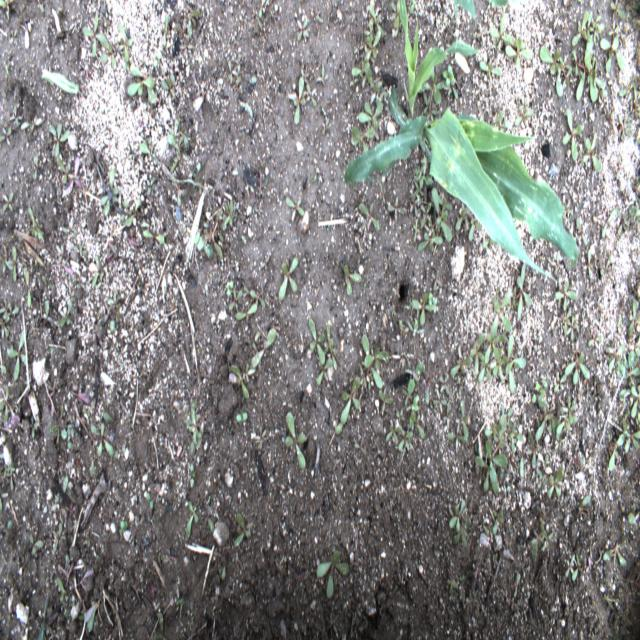crop: (344, 83, 577, 282), (399, 0, 478, 116)
weed: (473, 414, 507, 496), (193, 200, 234, 260), (83, 10, 117, 72), (569, 9, 605, 59), (416, 62, 445, 124), (538, 47, 573, 98), (572, 50, 606, 102), (315, 550, 351, 598), (333, 376, 361, 435), (361, 333, 390, 389), (599, 18, 627, 76), (424, 187, 452, 241), (561, 107, 586, 165), (249, 326, 277, 377), (125, 61, 156, 106), (284, 412, 308, 470), (182, 397, 204, 459), (505, 333, 527, 394), (8, 326, 30, 384), (488, 288, 512, 341), (48, 402, 76, 447), (167, 116, 188, 174), (227, 361, 258, 399), (449, 498, 472, 548), (564, 344, 592, 385), (100, 165, 122, 217), (512, 265, 532, 320), (505, 35, 533, 73), (488, 13, 512, 55), (90, 419, 115, 458), (60, 156, 84, 196), (306, 318, 326, 366), (615, 416, 639, 455), (314, 342, 334, 388), (278, 255, 298, 301), (410, 292, 437, 326), (534, 398, 554, 443), (582, 131, 602, 174), (358, 96, 384, 129), (49, 120, 71, 158), (322, 323, 339, 372), (601, 542, 627, 573), (350, 127, 374, 160), (358, 198, 381, 232), (620, 349, 638, 392), (446, 419, 468, 454), (0, 382, 16, 427), (546, 462, 564, 502), (469, 331, 484, 378), (484, 329, 504, 364), (351, 58, 374, 88), (554, 280, 577, 310), (234, 512, 253, 548), (292, 77, 306, 125), (477, 348, 496, 383), (343, 262, 362, 296), (413, 156, 433, 188), (185, 498, 200, 540), (117, 23, 133, 62), (4, 244, 20, 283), (124, 196, 141, 232), (53, 301, 74, 329), (27, 205, 43, 241), (363, 30, 381, 62), (607, 340, 625, 372), (19, 113, 45, 135), (23, 266, 36, 310), (369, 2, 384, 39), (492, 346, 507, 383), (417, 233, 443, 254), (387, 194, 404, 226), (455, 201, 472, 233), (284, 195, 304, 222), (479, 58, 501, 82), (449, 358, 473, 380), (56, 157, 74, 186), (514, 102, 534, 128), (405, 393, 419, 428), (52, 521, 67, 553), (397, 426, 414, 454), (561, 392, 575, 426), (411, 411, 426, 442), (383, 421, 403, 444), (234, 302, 259, 320), (91, 256, 105, 288), (160, 74, 177, 100), (402, 376, 416, 407), (9, 105, 25, 132), (378, 386, 392, 416), (418, 199, 432, 229), (440, 62, 455, 90), (497, 107, 511, 137), (29, 532, 45, 558), (56, 576, 71, 603), (390, 0, 403, 31), (295, 15, 311, 40), (139, 141, 158, 162), (248, 288, 266, 310), (226, 287, 243, 310), (556, 413, 571, 439), (459, 399, 468, 442), (630, 384, 640, 421), (142, 229, 165, 245), (609, 0, 625, 23), (1, 190, 14, 218), (315, 62, 329, 88), (467, 217, 481, 243), (406, 318, 426, 335), (306, 81, 318, 109), (434, 387, 446, 415), (0, 123, 13, 147), (227, 58, 238, 86), (439, 372, 450, 398), (409, 194, 420, 220), (362, 19, 374, 41), (163, 13, 169, 52), (235, 410, 249, 425), (188, 463, 195, 490)
